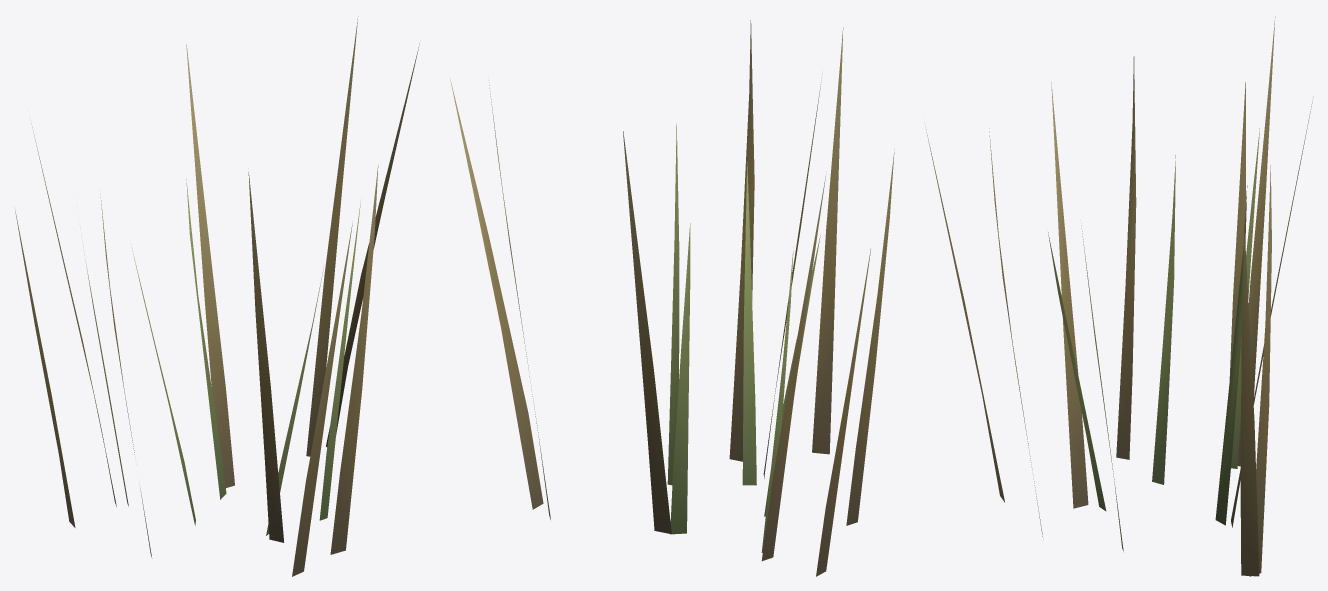
Rendered from DryTuft_LOD0.glb.
3 renders of one model, left to right at view 1: azimuth 30°, elevation 25°; view 2: azimuth 150°, elevation 25°; view 3: azimuth 270°, elevation 25°, orthographic. The views are drawn at different scales.
Visible parts, largest first — view 1: DryTuft_LOD0; view 2: DryTuft_LOD0; view 3: DryTuft_LOD0.
Boxes of the visible parts, x1=… form: DryTuft_LOD0: x1=15, y1=16, x2=419, y2=576; DryTuft_LOD0: x1=450, y1=20, x2=894, y2=576; DryTuft_LOD0: x1=924, y1=16, x2=1313, y2=576.
Bounding box in the file's own units: 0.2678 × 0.2693 × 0.2162.
